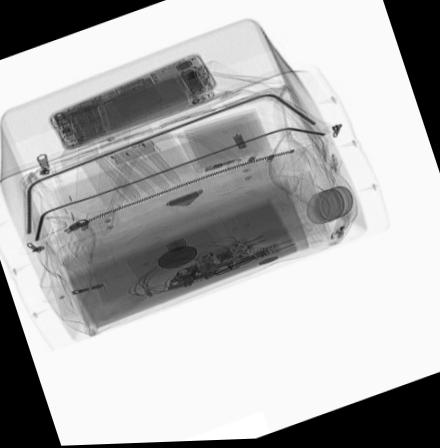Lighter: (326, 213, 354, 247)
